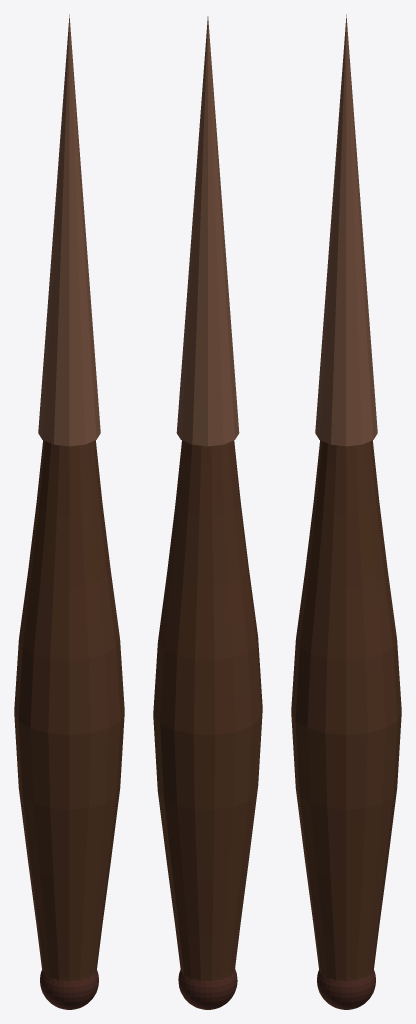
File: Wand 123.glb
The picture shows the model from 3 angles, left to right: view 1: azimuth 90°, elevation 25°; view 2: azimuth 210°, elevation 25°; view 3: azimuth 270°, elevation 25°; orthographic projection.
Visible parts, largest first — view 1: GeneratedWand; view 2: GeneratedWand; view 3: GeneratedWand.
Boxes of the visible parts, bbox=[...] form: GeneratedWand: bbox=[14, 14, 124, 1009]; GeneratedWand: bbox=[153, 16, 262, 1009]; GeneratedWand: bbox=[291, 14, 401, 1009].
Size of the model in its own units: 0.0499 by 0.4938 by 0.0499.
